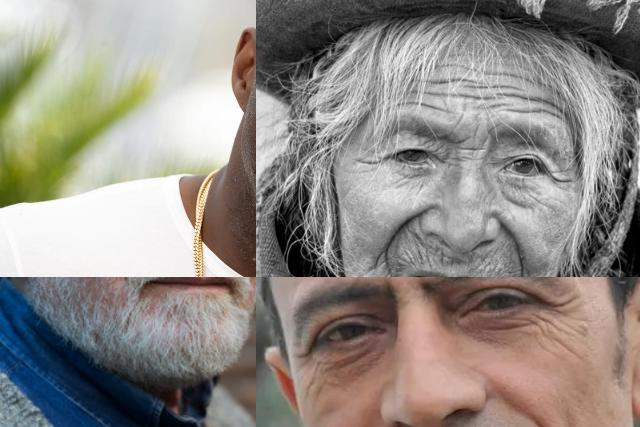crows_feet: (543, 293, 577, 327), (550, 166, 574, 194), (355, 149, 383, 172), (292, 344, 314, 372)
forehead: (506, 92, 558, 124), (453, 84, 499, 110), (404, 94, 448, 116), (430, 69, 478, 89)
frown_line: (456, 137, 486, 165)
gummy_smile: (496, 216, 530, 266), (387, 206, 423, 248), (524, 408, 559, 427)
smoker_lines: (404, 244, 436, 270), (479, 254, 511, 277)
